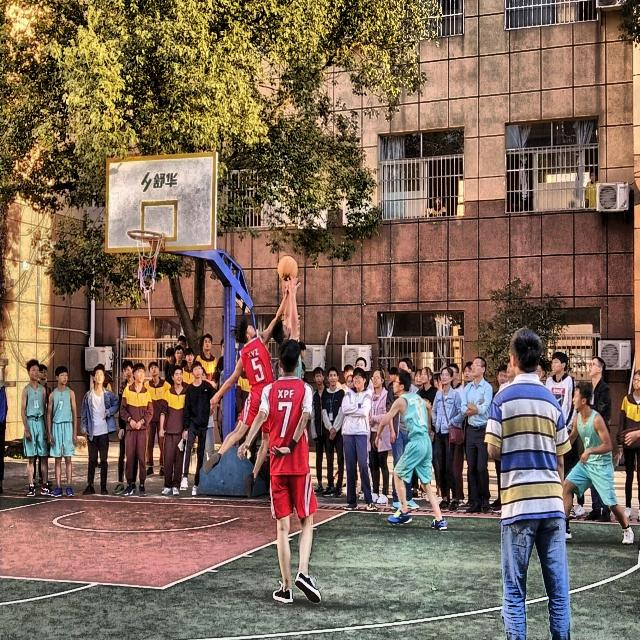board: (278, 256, 298, 282)
rim: (123, 224, 169, 294)
